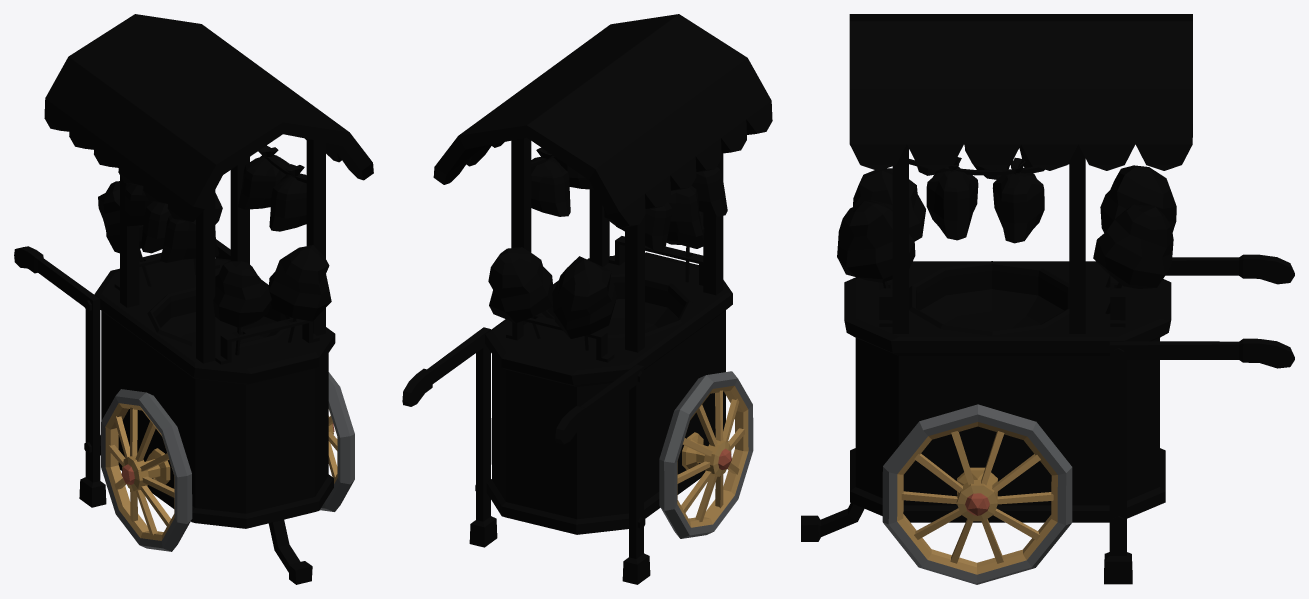
File: cart-candyfloss.glb
3 renders of one model, left to right at view 1: azimuth 30°, elevation 25°; view 2: azimuth 150°, elevation 25°; view 3: azimuth 270°, elevation 25°, orthographic. The views are drawn at different scales.
Parts seen in each view (by area): view 1: SM_Prop_Cart_Candyfloss_01, SM_Prop_Cart_Candyfloss_Wheels_01; view 2: SM_Prop_Cart_Candyfloss_01, SM_Prop_Cart_Candyfloss_Wheels_01; view 3: SM_Prop_Cart_Candyfloss_01, SM_Prop_Cart_Candyfloss_Wheels_01.
Part boxes in pixels (left/top/right/bottom): SM_Prop_Cart_Candyfloss_01: left=14, top=14, right=373, bottom=584; SM_Prop_Cart_Candyfloss_Wheels_01: left=101, top=372, right=354, bottom=551; SM_Prop_Cart_Candyfloss_01: left=402, top=14, right=772, bottom=584; SM_Prop_Cart_Candyfloss_Wheels_01: left=491, top=371, right=753, bottom=538; SM_Prop_Cart_Candyfloss_01: left=801, top=14, right=1294, bottom=584; SM_Prop_Cart_Candyfloss_Wheels_01: left=882, top=404, right=1072, bottom=584.
Bounding box in the file's own units: 111 × 225 × 194.
Materials: 1 (1 with a texture image).
